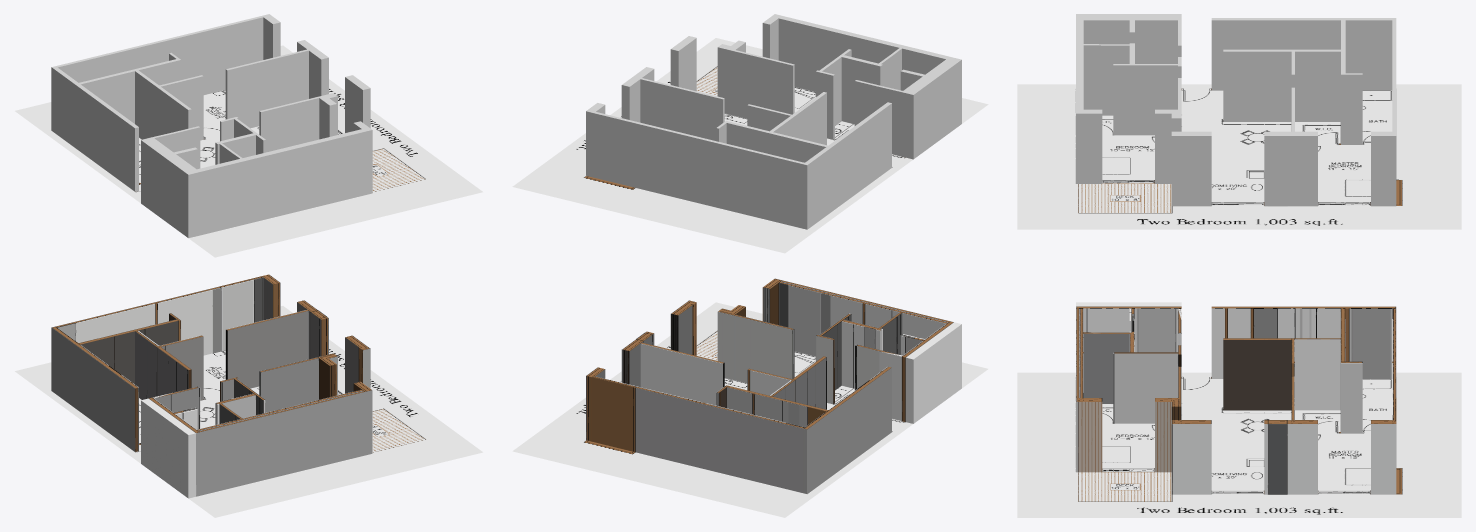
File: HouseV1.fbx
The picture shows the model from 3 angles, left to right: view 1: azimuth 30°, elevation 25°; view 2: azimuth 150°, elevation 25°; view 3: azimuth 270°, elevation 25°; orthographic projection. The views are drawn at different scales.
Parts seen in each view (by area): view 1: FloorPlanV3, FloorPlanV3.001; view 2: FloorPlanV3.001, FloorPlanV3; view 3: FloorPlanV3, FloorPlanV3.001.
Part boxes in pixels (x1=…): FloorPlanV3: x1=15, y1=14, x2=482, y2=257; FloorPlanV3.001: x1=15, y1=274, x2=482, y2=517; FloorPlanV3.001: x1=512, y1=278, x2=987, y2=517; FloorPlanV3: x1=512, y1=14, x2=988, y2=253; FloorPlanV3: x1=1017, y1=14, x2=1461, y2=229; FloorPlanV3.001: x1=1017, y1=302, x2=1461, y2=517.
Size of the model in its own units: 5603 by 6454 by 7243.
